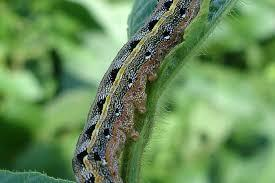fallarmy_worm: (71, 1, 198, 183)
